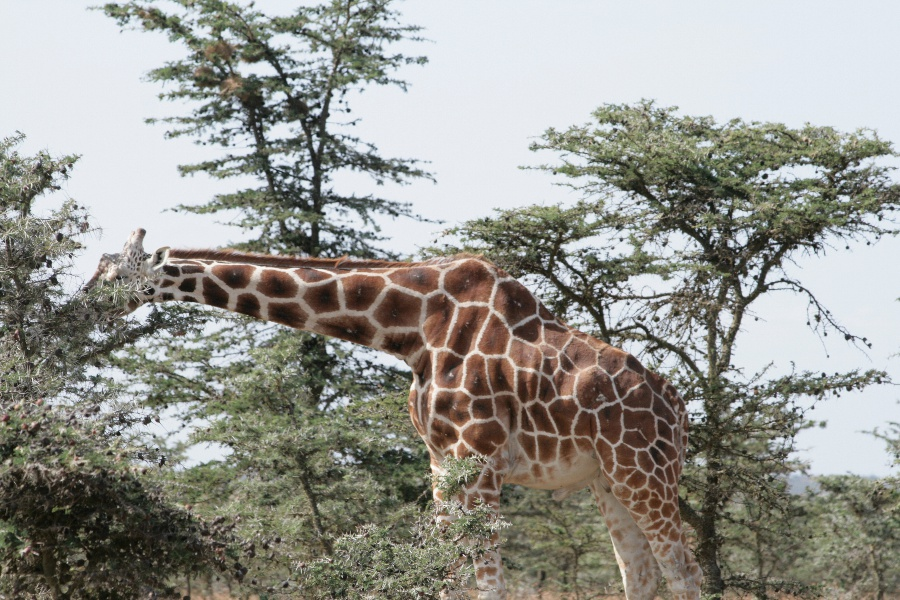giraffe: (53, 228, 708, 596)
